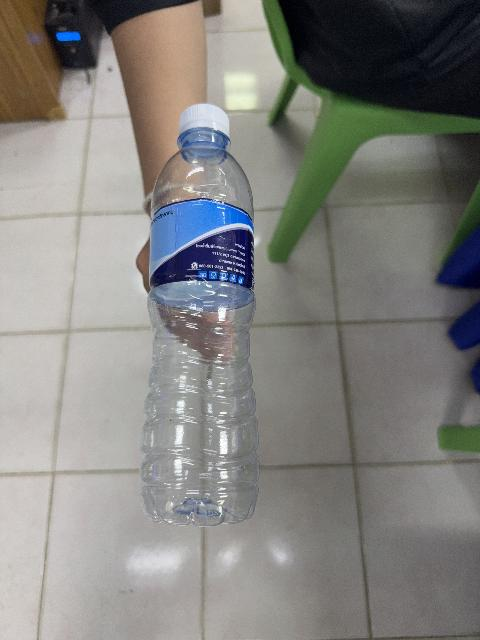bottle: (140, 104, 258, 525)
